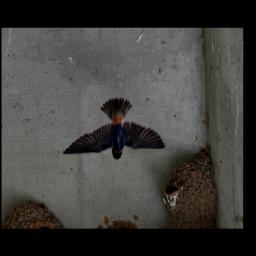Swallow: (60, 97, 166, 162)
